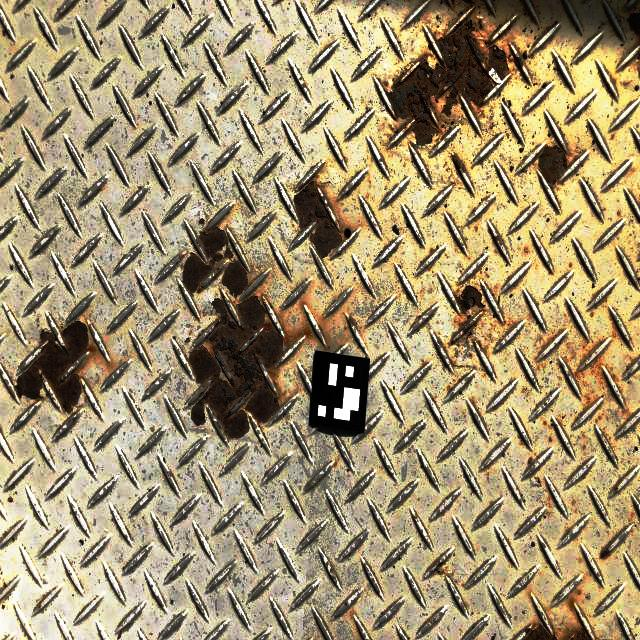Corrosion: (382, 0, 525, 148), (189, 291, 311, 441), (14, 318, 97, 415), (181, 224, 254, 300), (292, 167, 344, 259), (575, 319, 619, 410), (520, 595, 593, 640), (449, 284, 487, 348), (536, 143, 572, 186), (538, 327, 567, 358), (452, 153, 470, 178), (431, 559, 453, 578), (627, 11, 640, 41), (600, 546, 611, 560), (636, 51, 640, 75), (348, 316, 355, 328), (612, 484, 621, 492), (610, 76, 616, 86)
